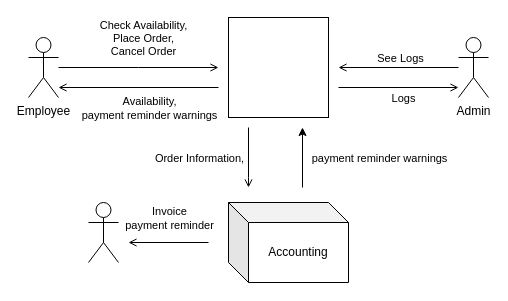
Image size: 508x301. Some labels were removed from this diagram. Each missing label, with the centre of its shape:
Customer: point (103, 232)
Order System: point (278, 67)
